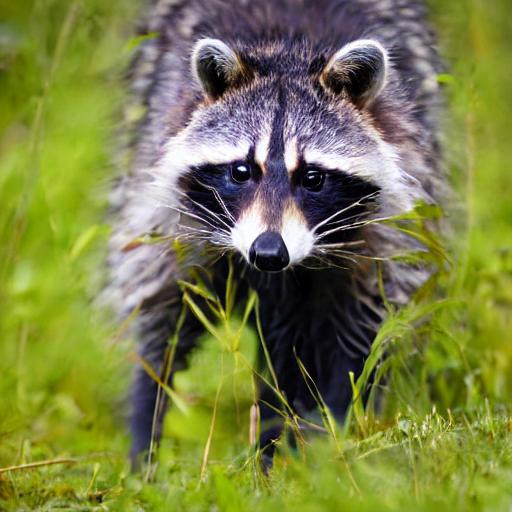raccoon: (99, 0, 469, 408)
